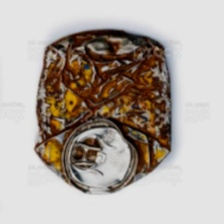can: (30, 24, 176, 197)
